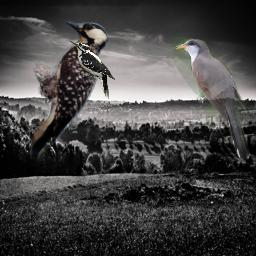Cuckoo: (173, 37, 252, 162)
Woodpecker: (26, 18, 117, 164), (69, 39, 115, 99)
